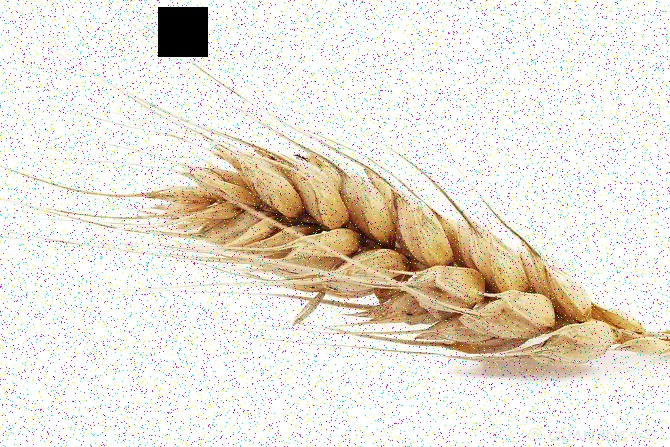wheat: (97, 97, 652, 353)
